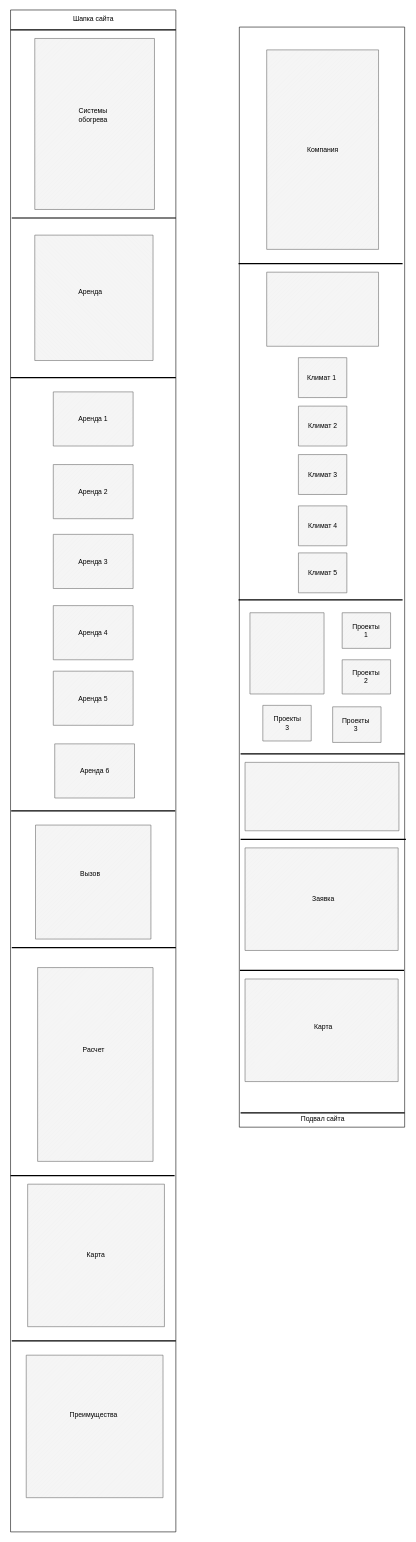
Some shapes in this 416 by 1542 pixel diagram are drawn without their labels. Each missing label, with the box of its shape:
Климат: (266, 272, 379, 346)
Партнеры: (244, 762, 399, 831)
Проекты: (249, 612, 324, 694)
